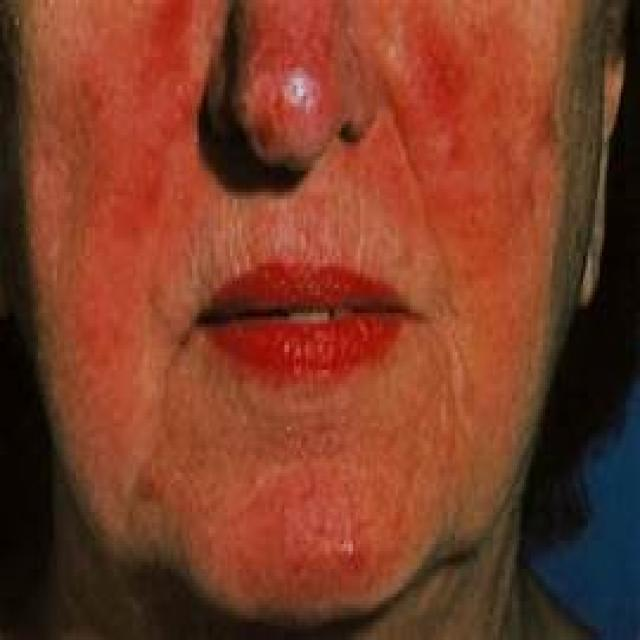Rosacea: (390, 0, 559, 275), (78, 0, 202, 333), (242, 18, 340, 126)
